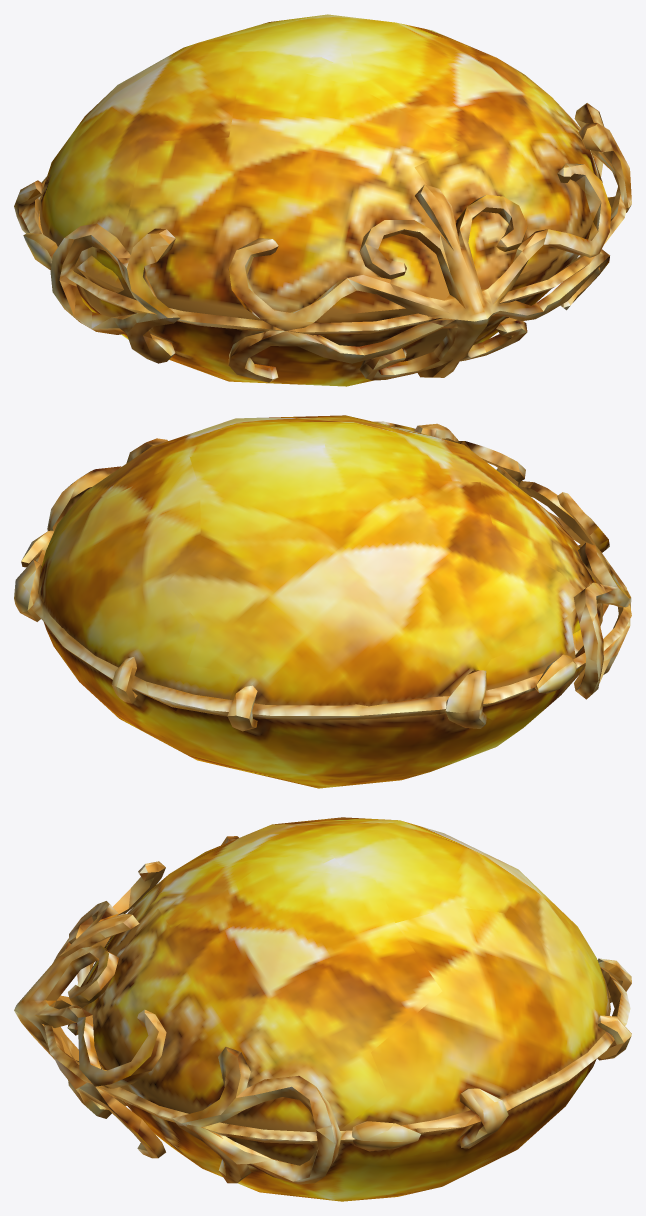
The model's file is item_maw_craft_gem17.glb.
3 renders of one model, top to bottom at view 1: azimuth 30°, elevation 25°; view 2: azimuth 150°, elevation 25°; view 3: azimuth 270°, elevation 25°, orthographic.
Visible parts, largest first — view 1: maw_gem17; view 2: maw_gem17; view 3: maw_gem17.
Part boxes in pixels (x1=…): maw_gem17: x1=14, y1=14, x2=631, y2=386; maw_gem17: x1=14, y1=415, x2=631, y2=788; maw_gem17: x1=14, y1=817, x2=631, y2=1201.
Bounding box in the file's own units: 1 × 0.5215 × 0.9665.
Materials: 1 (1 with a texture image).
